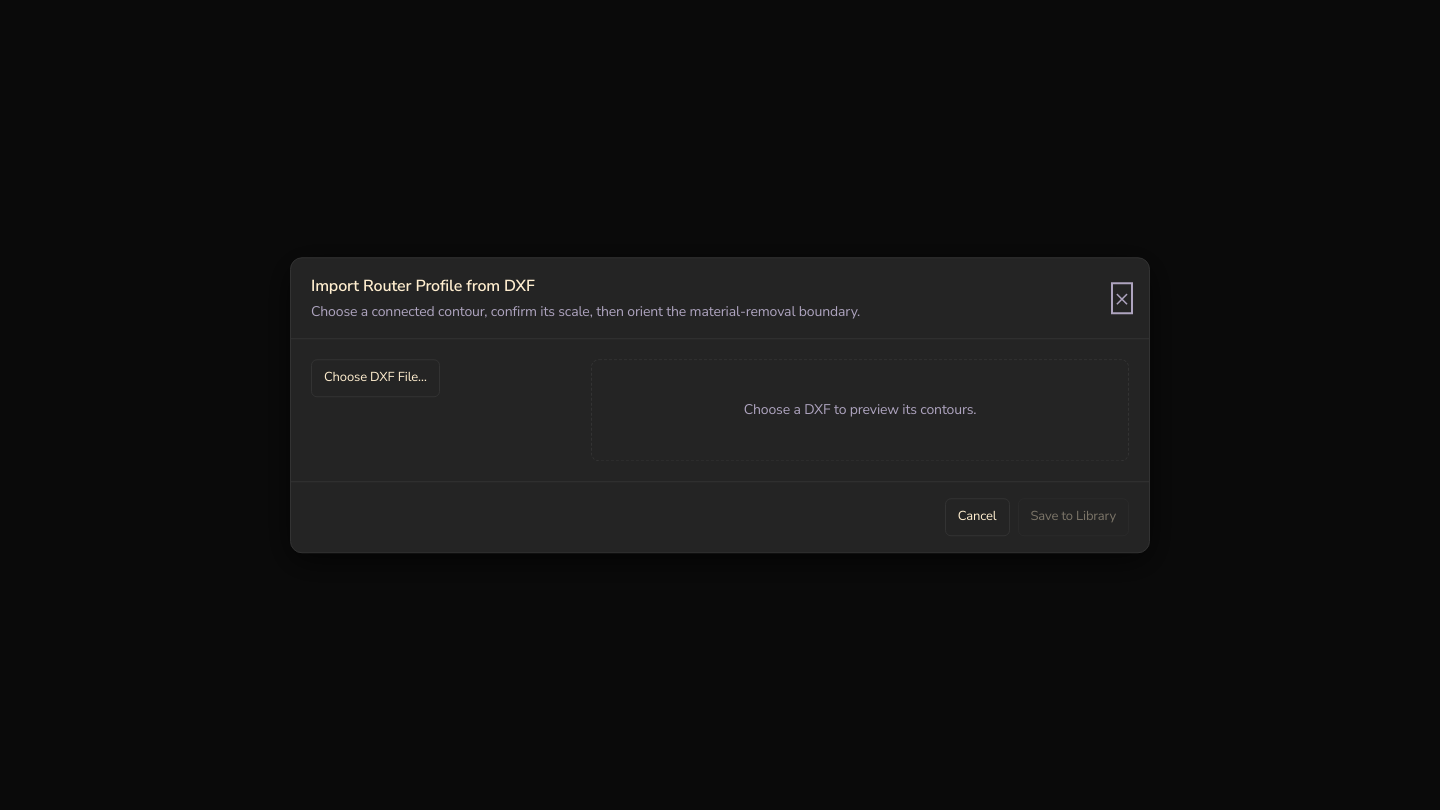
DxfRouterProfileImportDialog › labels exact cubic spline fidelity before apply
Click the button "Choose DXF File…". click: (375, 378)
box: left=311, top=359, right=440, bottom=397
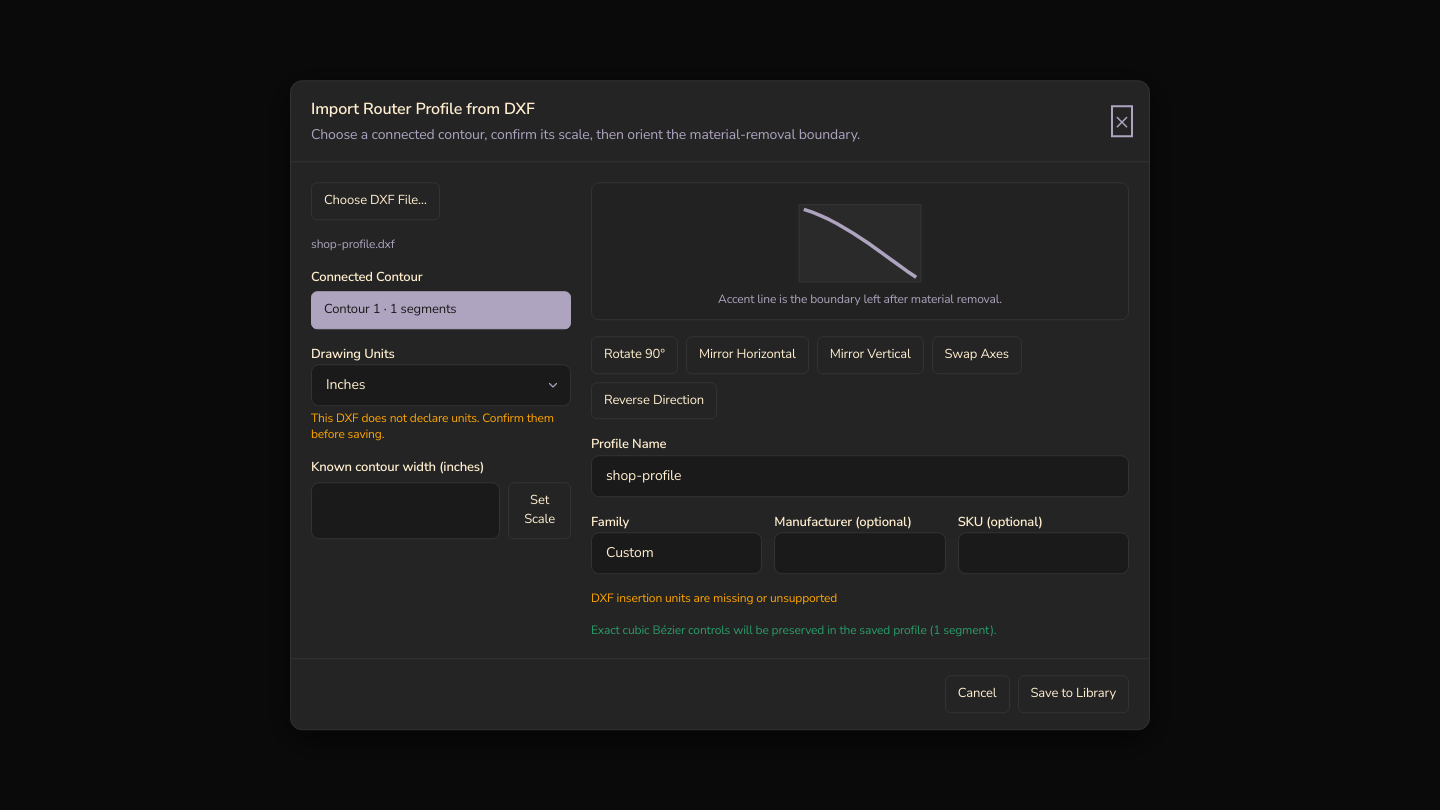
Expected: the text "Exact cubic Bézier controls will be preserved" is shown, left=591, top=622, right=933, bottom=638
